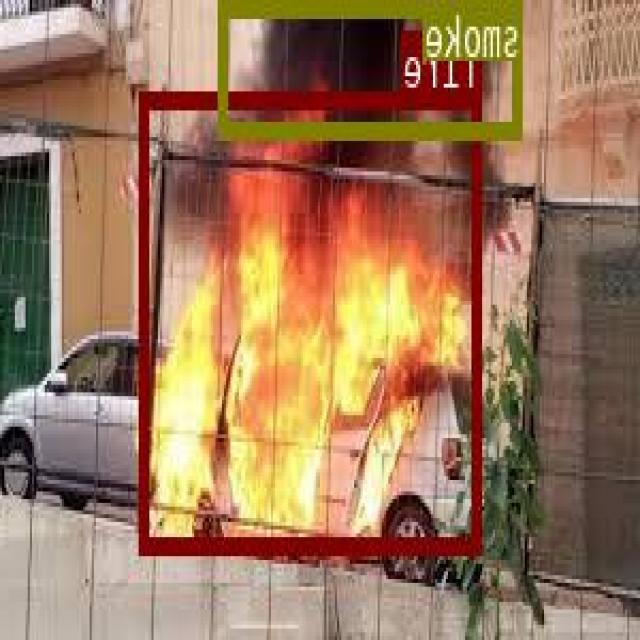fire: (142, 89, 483, 552)
smoke: (220, 0, 525, 133)
